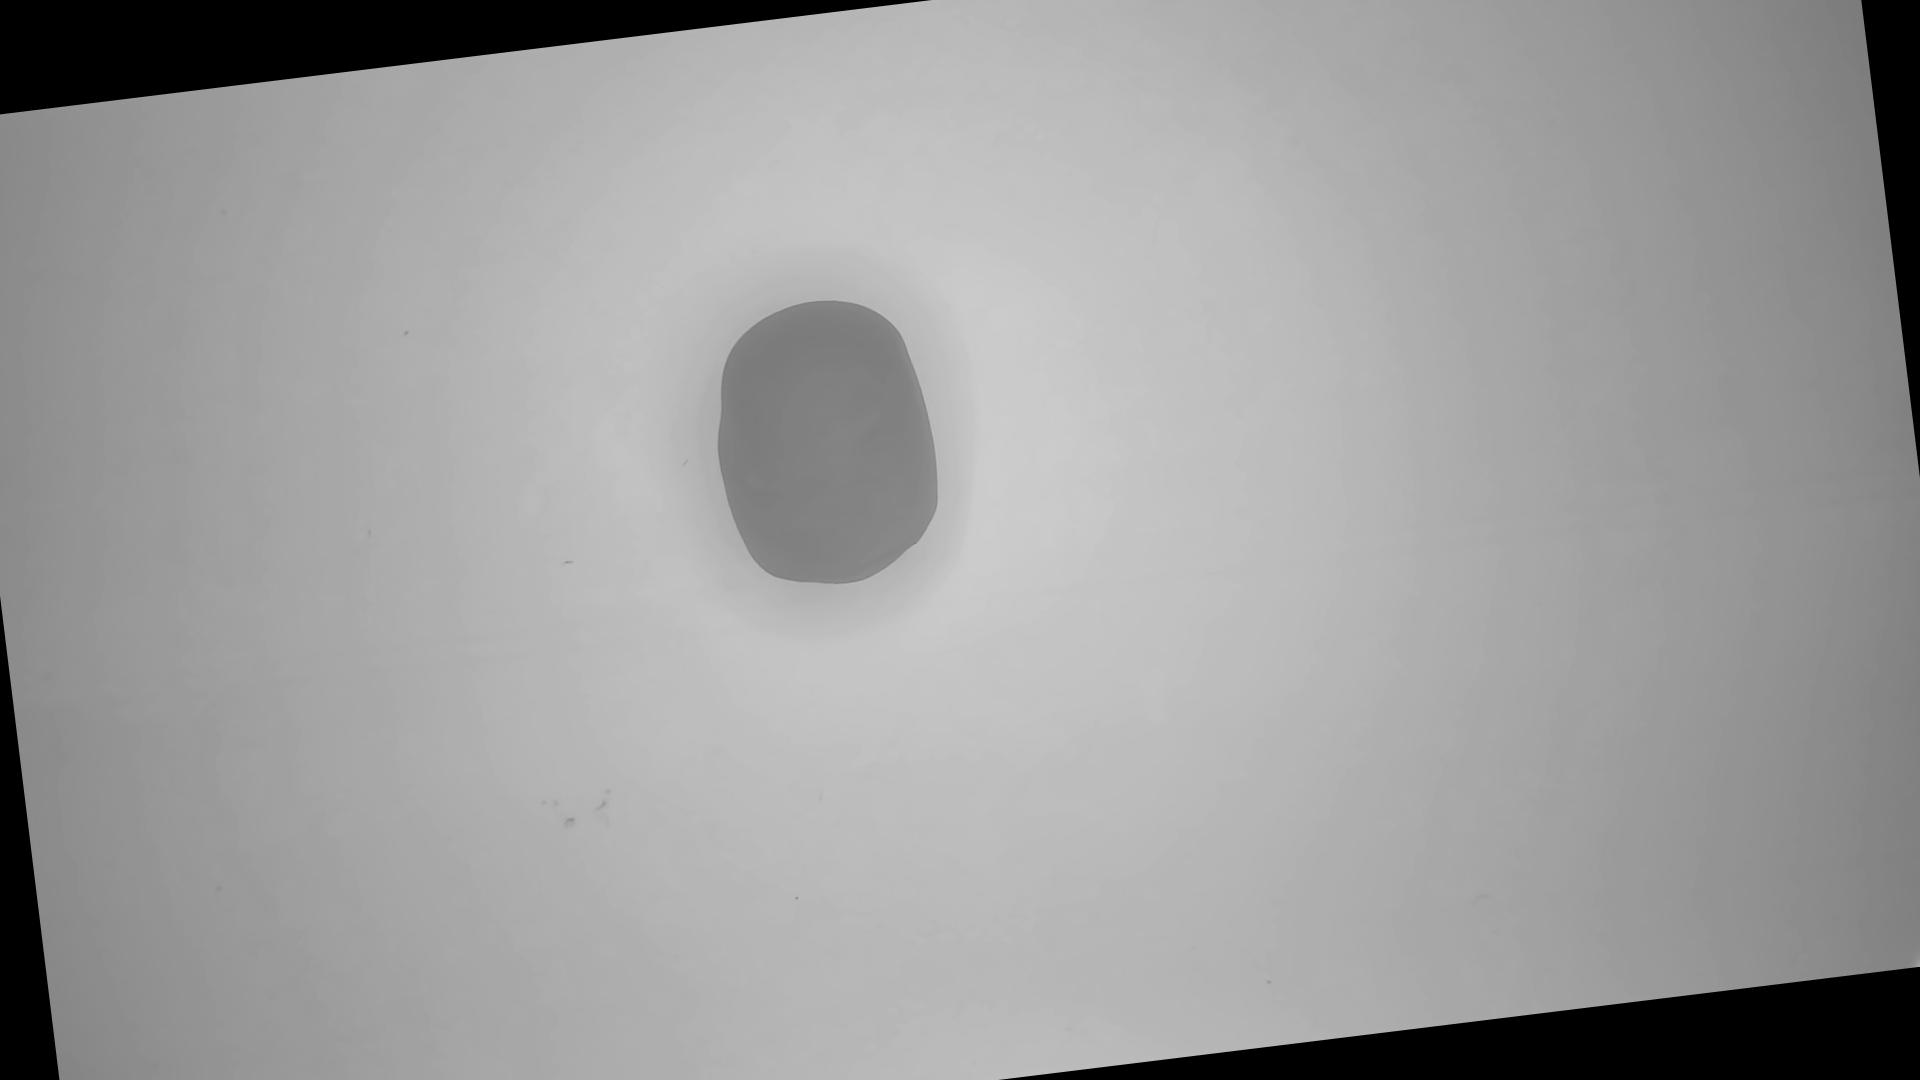abnormal: (698, 286, 956, 600)
